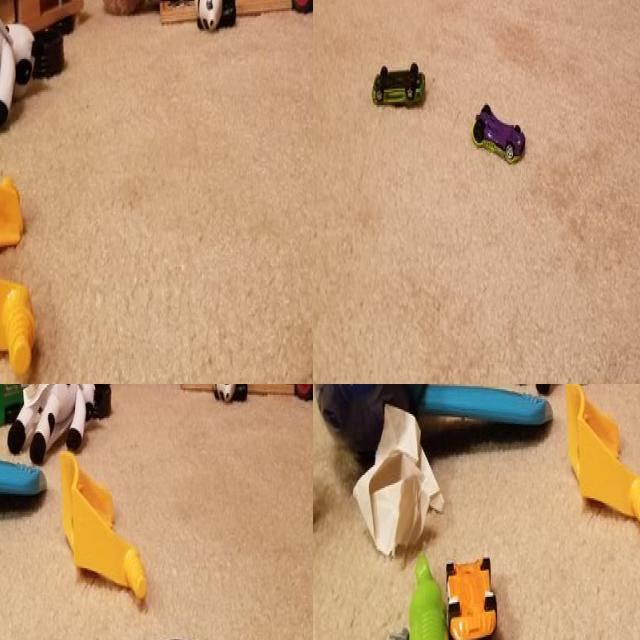toy: (58, 448, 149, 604), (564, 384, 640, 534), (0, 131, 37, 369), (314, 384, 425, 452), (0, 0, 84, 79), (7, 384, 103, 449), (422, 384, 549, 428), (0, 0, 37, 141), (467, 96, 527, 180), (446, 550, 498, 640), (405, 553, 455, 640), (371, 53, 426, 112), (0, 444, 43, 498), (0, 384, 44, 432), (211, 384, 253, 415), (194, 0, 235, 30)
